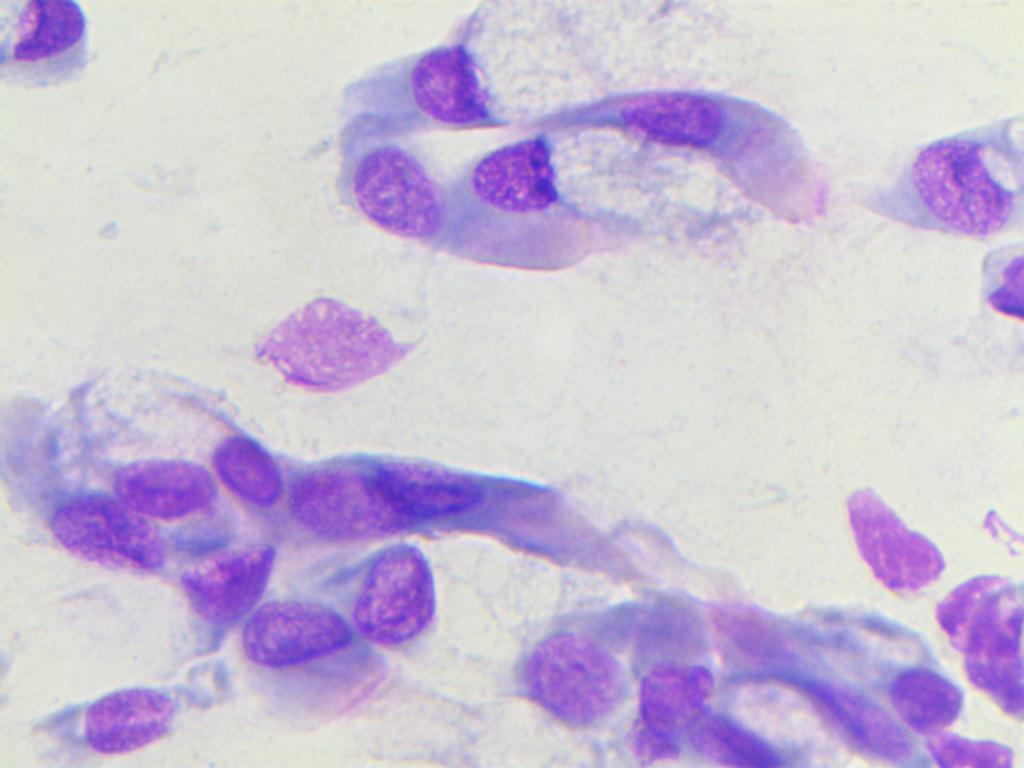artifact: (243, 280, 439, 393), (924, 558, 1024, 731), (837, 475, 951, 605), (978, 258, 1024, 363)
ciliated: (599, 71, 834, 224), (350, 134, 597, 275)
goblet_cell: (409, 3, 796, 127), (454, 120, 753, 240), (713, 600, 921, 759), (13, 411, 166, 579), (290, 453, 519, 552), (857, 115, 1024, 250), (822, 603, 969, 739), (522, 590, 643, 741), (18, 663, 190, 768), (140, 499, 275, 630), (242, 589, 372, 723), (619, 579, 721, 733), (166, 371, 275, 510), (75, 404, 216, 509), (687, 676, 845, 768), (339, 538, 445, 646), (0, 0, 117, 79)
